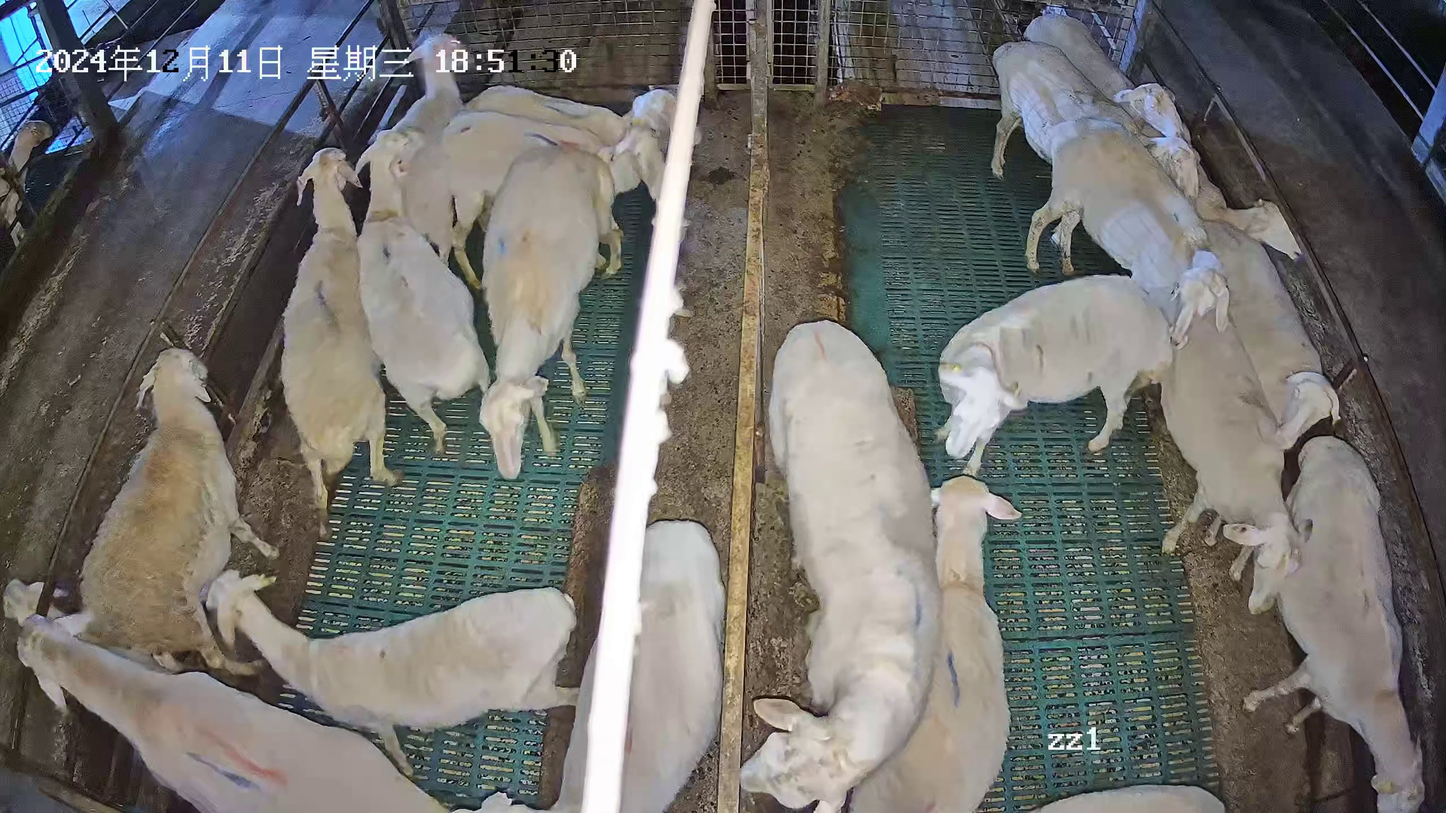Smounting: (1, 572, 449, 813)
mounted: (3, 576, 165, 680)
